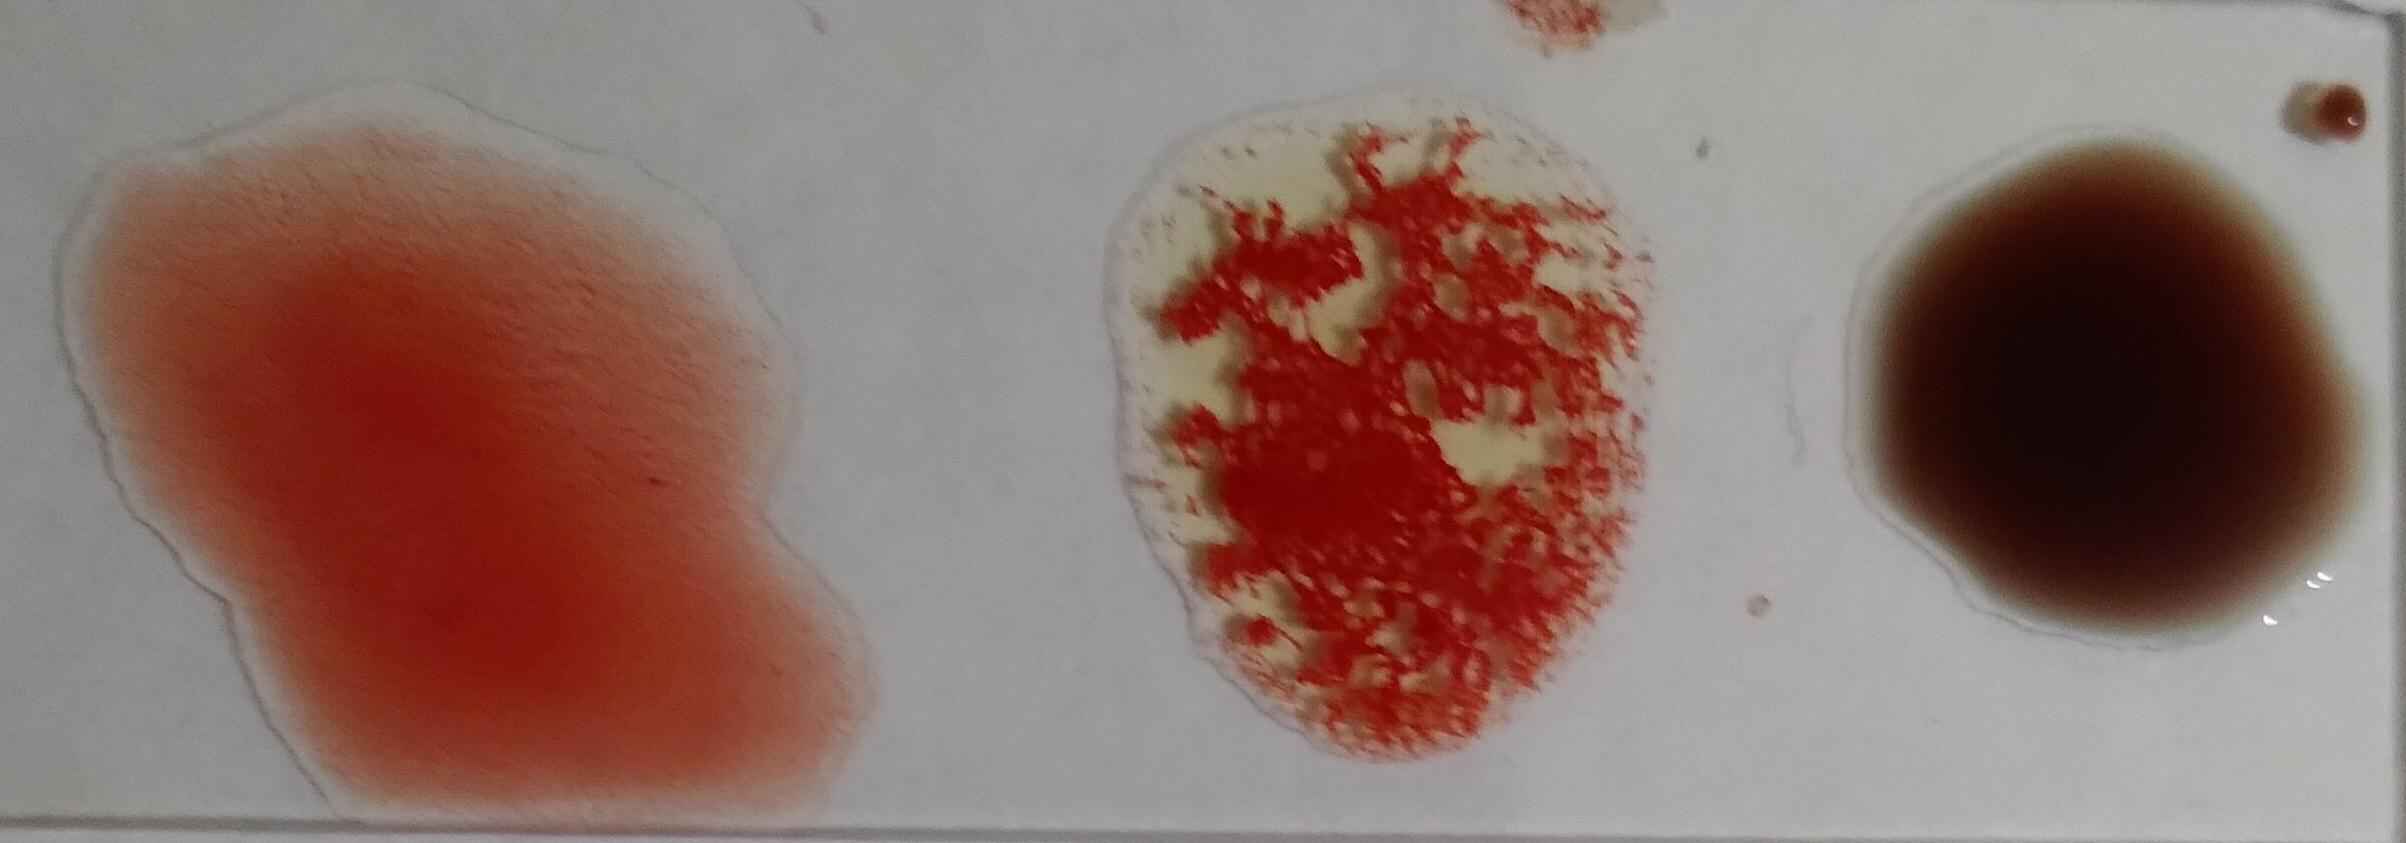B: (1108, 123, 1645, 760)
D: (123, 152, 798, 815)
